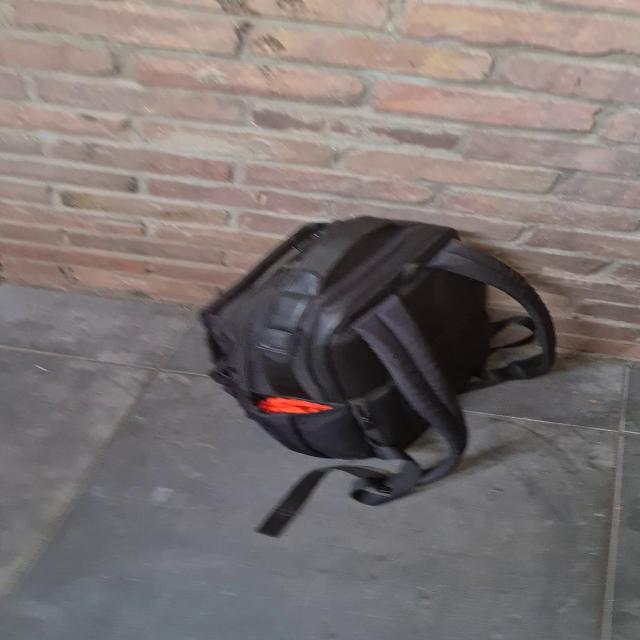backpack: (192, 205, 566, 498)
